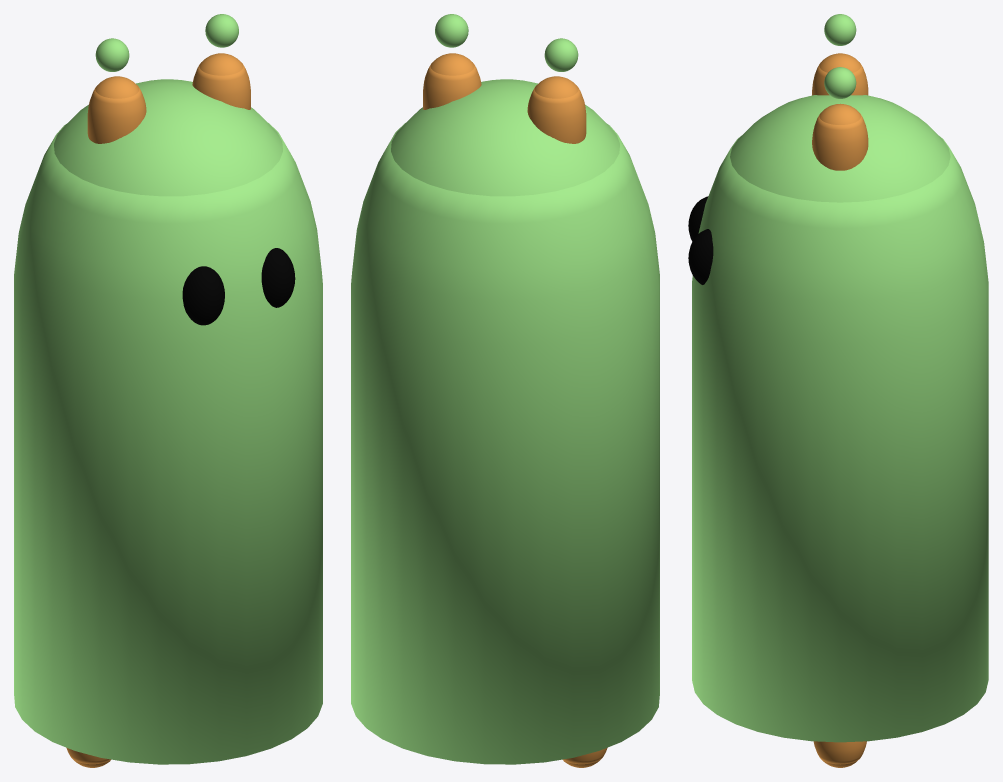
File: cilindrito_avatar.gltf
3 views of the same model, side by side, from view 1: azimuth 30°, elevation 25°; view 2: azimuth 150°, elevation 25°; view 3: azimuth 270°, elevation 25° (orthographic). The views are drawn at different scales.
Parts seen in each view (by area): view 1: Esfera; view 2: Esfera; view 3: Esfera.
Part boxes in pixels (x1,y1,x2,y2): Esfera: [14, 14, 322, 767]; Esfera: [351, 14, 659, 767]; Esfera: [688, 14, 988, 767].
Bounding box in the file's own units: 0.9887 × 2.55 × 1.01.
